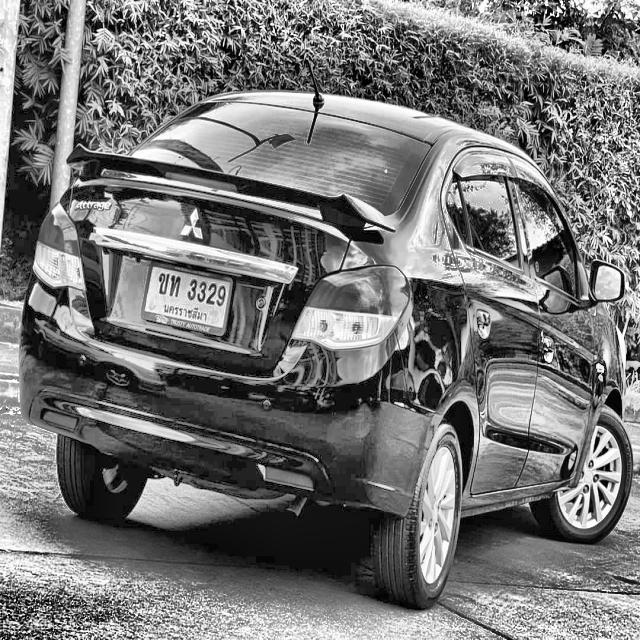license-plate: (140, 253, 238, 343)
